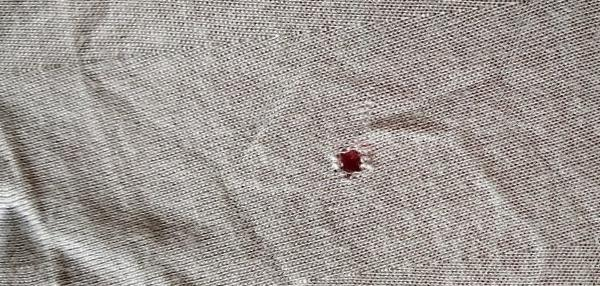hole: (328, 146, 371, 182)
